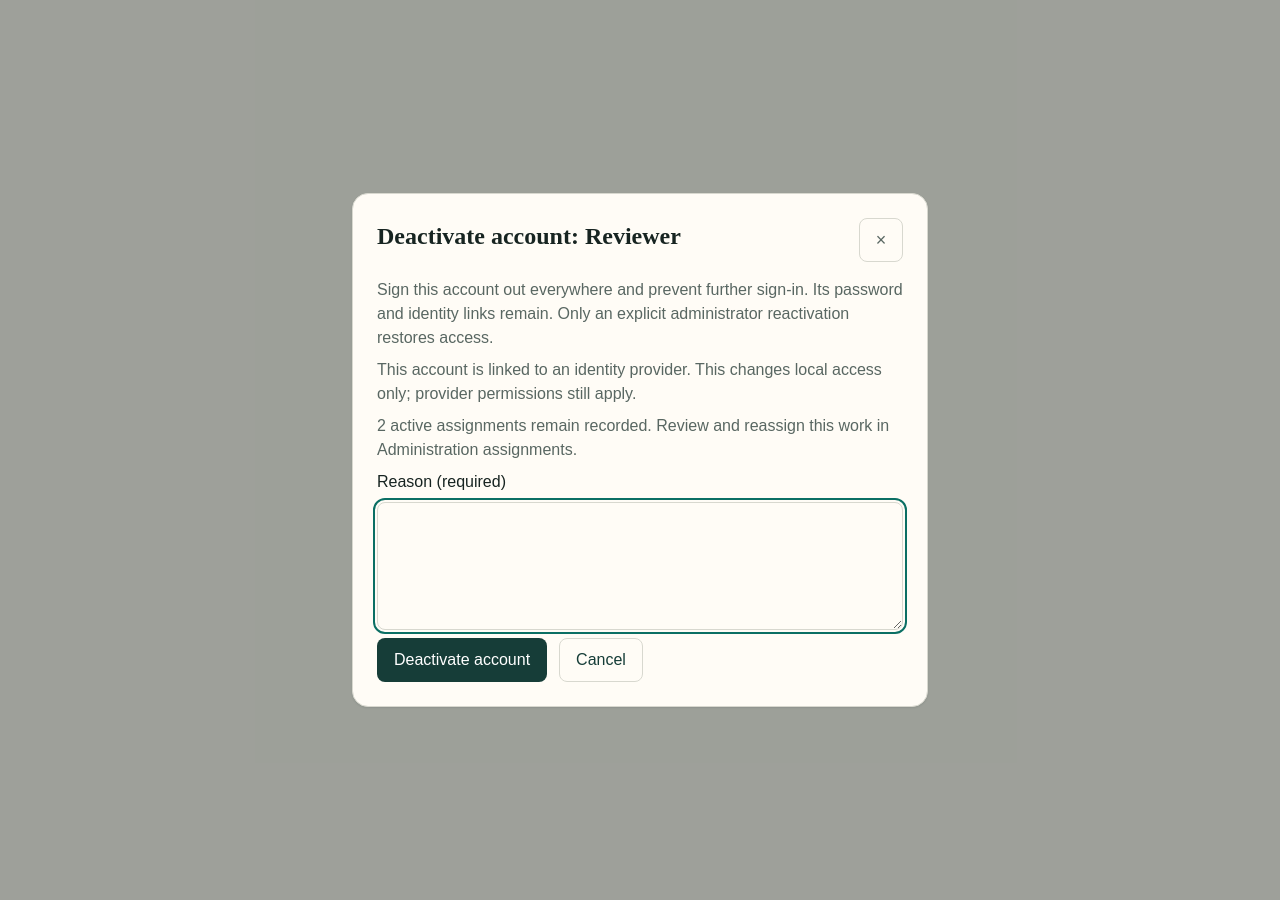
Test case: requires a reason, describes OIDC and assignment impact, and recovers from a failure
Expected: the text "identity provider" is shown, [377,361,882,402]
Expected: the text "2 active assignments" is shown, [377,414,903,462]
Click the button "Deactivate account".
click(462, 660)  # box [377,638,547,682]
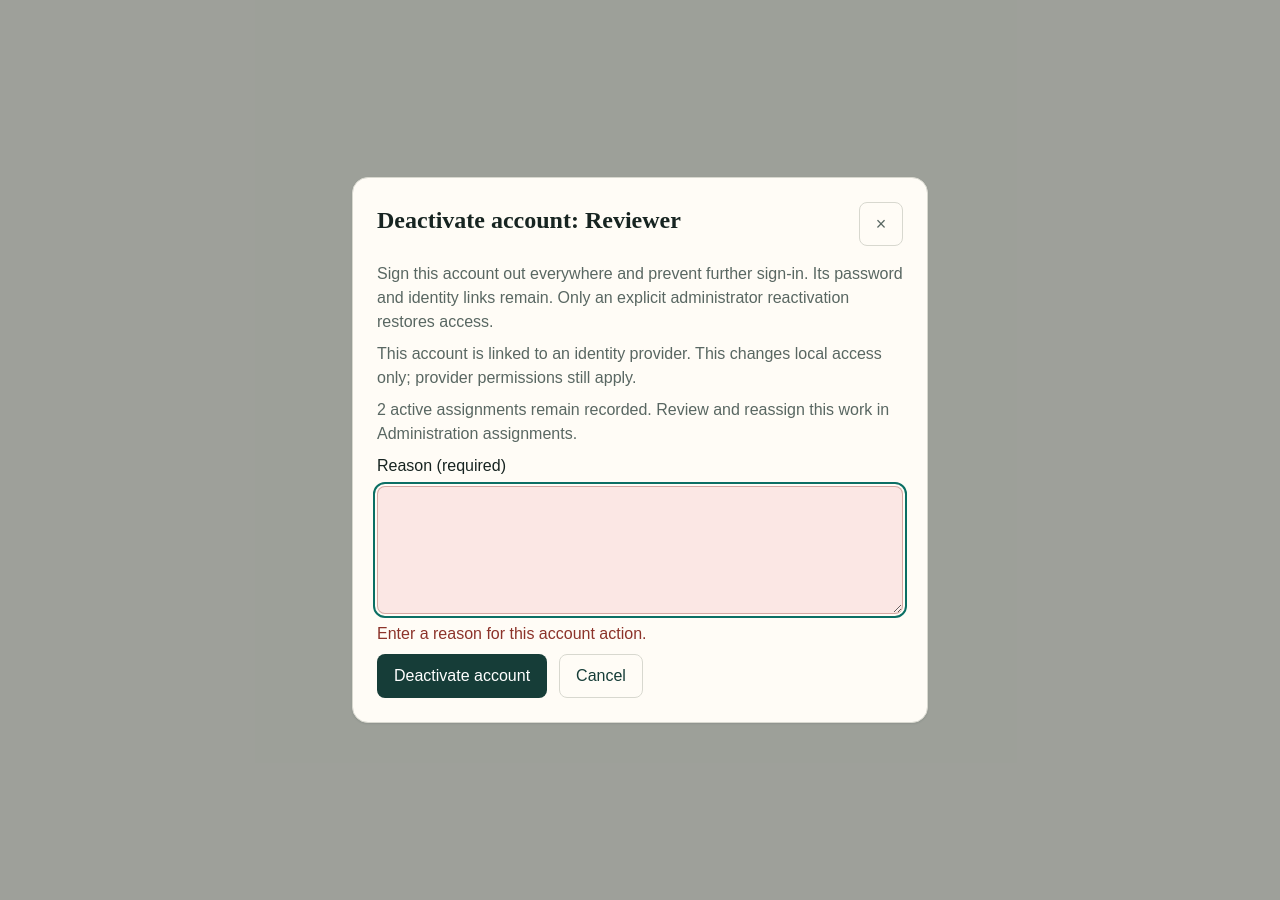
Type "Staff leave" into the text box labelled "Reason (required)".
click(640, 550); type("Staff leave")  # box [377,486,903,614]
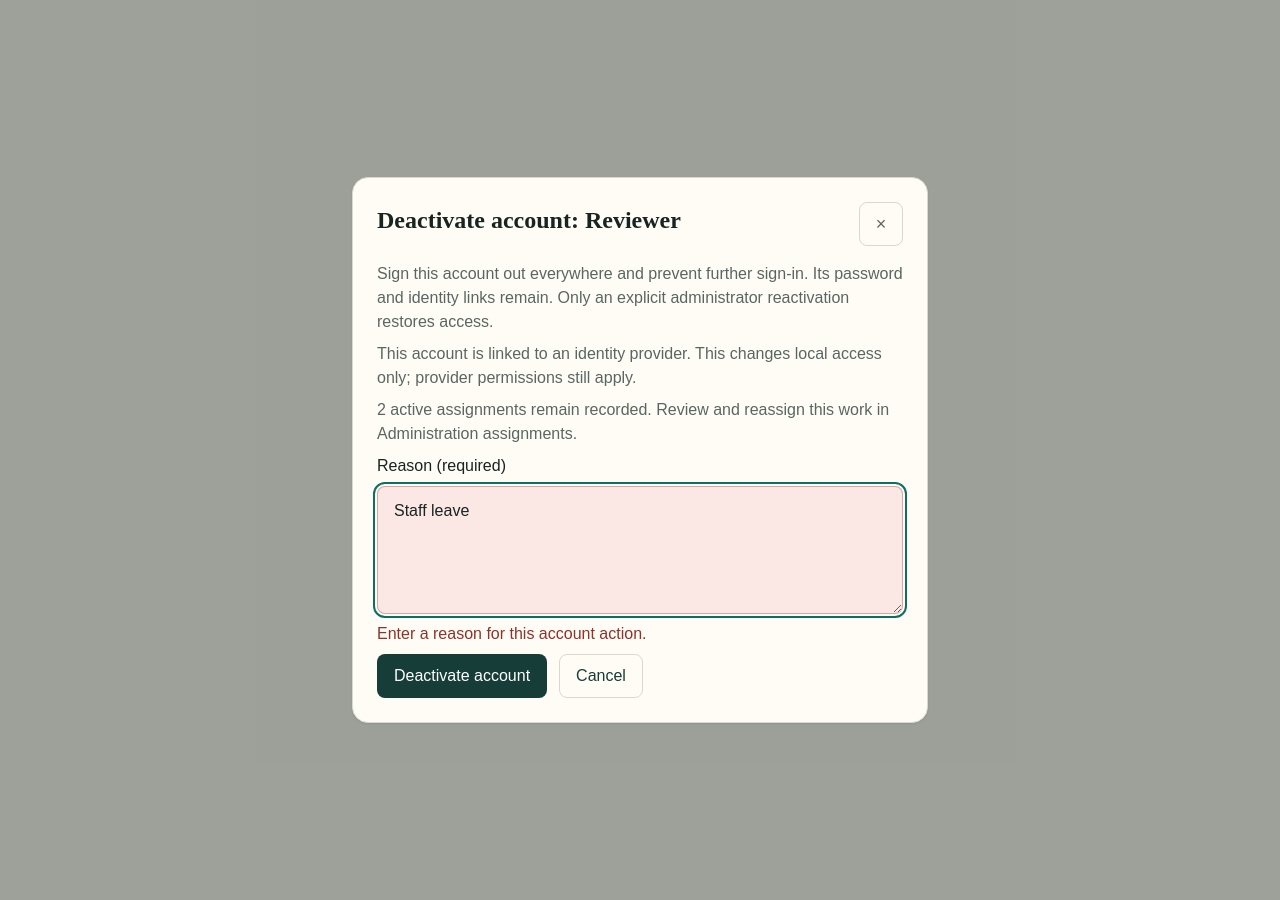
Click the button "Deactivate account".
click(462, 676)  # box [377,654,547,698]
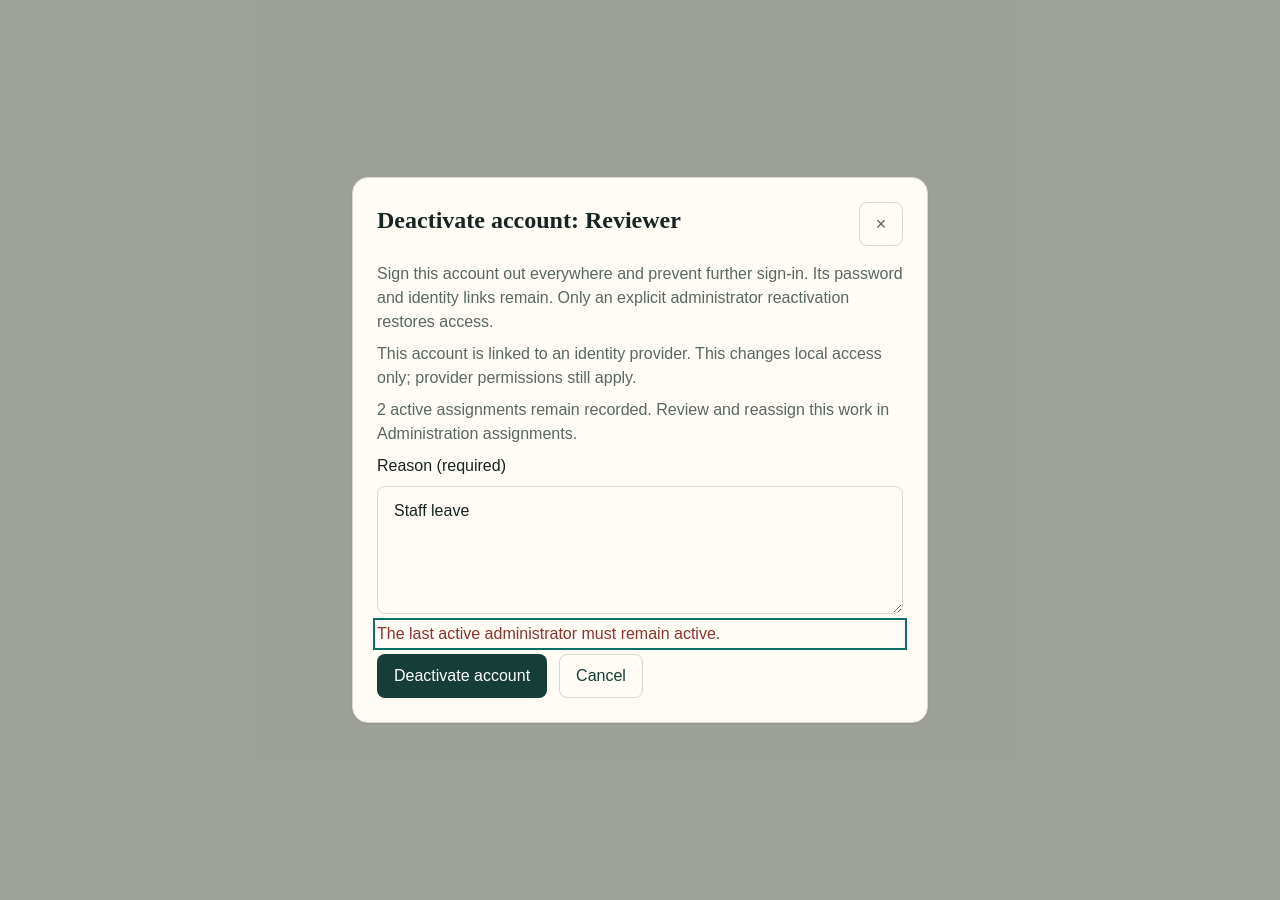
Expected: the message shows "last active administrator", [377,625,720,642]
